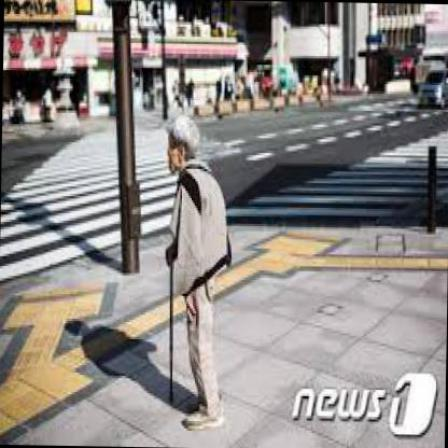silver: (162, 116, 232, 434)
